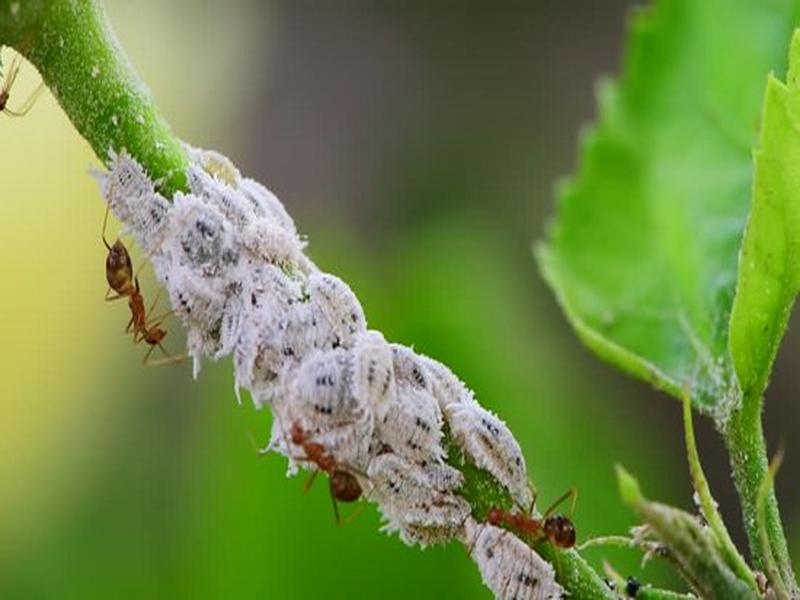Mealy_bug: (165, 187, 601, 590), (78, 234, 176, 361), (272, 418, 380, 514)
